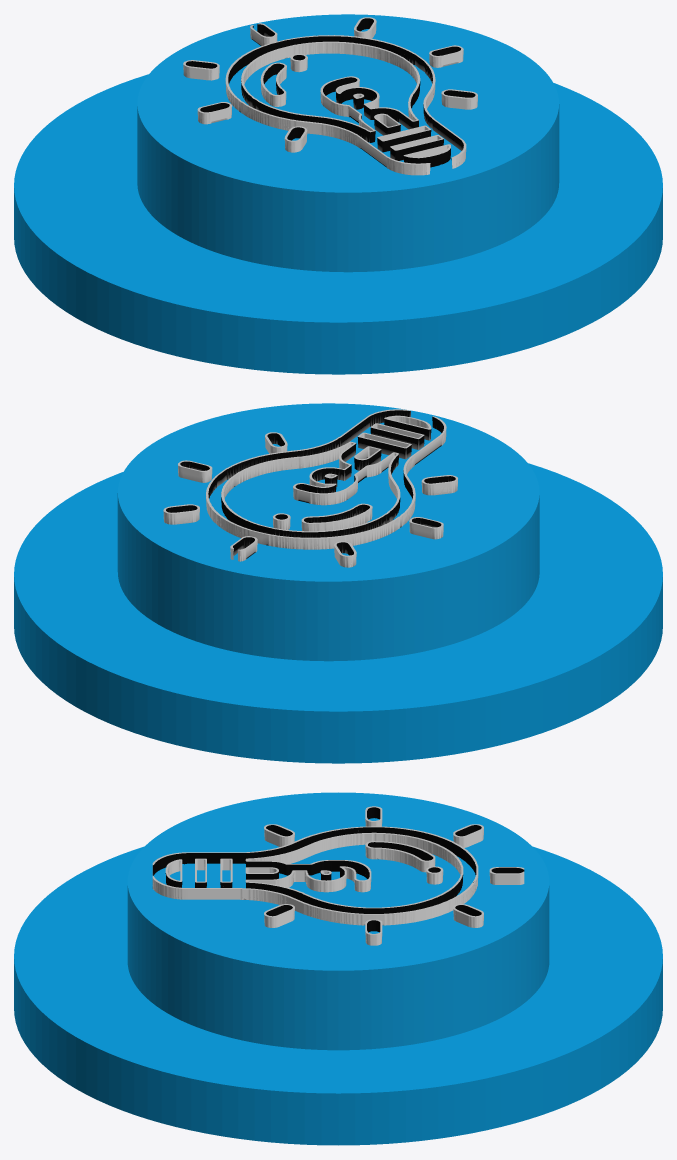
Rendered from bouton-theme.gltf.
3 views of the same model, one above another, from view 1: azimuth 30°, elevation 25°; view 2: azimuth 150°, elevation 25°; view 3: azimuth 270°, elevation 25° (orthographic).
Bounding box in the file's own units: 0.04 × 0.00969 × 0.04.
4 materials, 1 textured.
